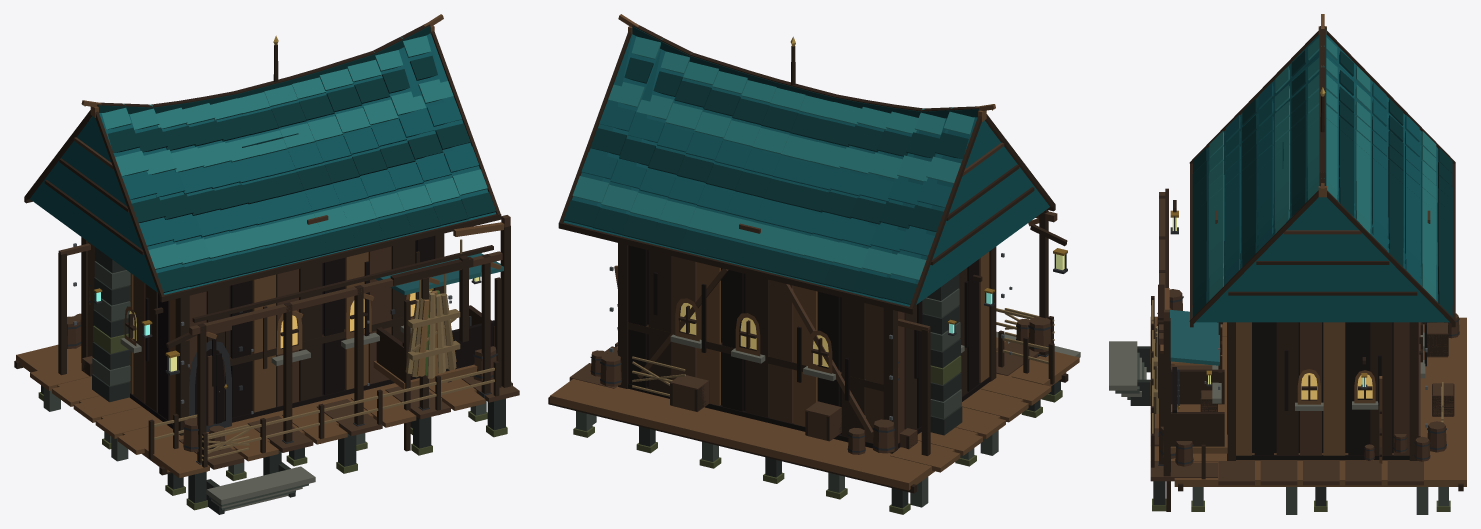
The model's file is fenbridge_crooked_reed_inn.glb.
The picture shows the model from 3 angles, left to right: view 1: azimuth 30°, elevation 25°; view 2: azimuth 150°, elevation 25°; view 3: azimuth 270°, elevation 25°; orthographic projection. The views are drawn at different scales.
Visible parts, largest first — view 1: FenbridgeCrookedReedInn_FenbridgeOpaque, FenbridgeCrookedReedInn_FenbridgeEmissive; view 2: FenbridgeCrookedReedInn_FenbridgeOpaque, FenbridgeCrookedReedInn_FenbridgeEmissive; view 3: FenbridgeCrookedReedInn_FenbridgeOpaque, FenbridgeCrookedReedInn_FenbridgeEmissive.
Boxes of the visible parts, x1,y1,x2,y2 form: FenbridgeCrookedReedInn_FenbridgeOpaque: (14,14,519,514); FenbridgeCrookedReedInn_FenbridgeEmissive: (96,277,479,371); FenbridgeCrookedReedInn_FenbridgeOpaque: (548,14,1080,514); FenbridgeCrookedReedInn_FenbridgeEmissive: (680,254,1064,367); FenbridgeCrookedReedInn_FenbridgeOpaque: (1109,14,1466,514); FenbridgeCrookedReedInn_FenbridgeEmissive: (1172,217,1372,399).
Bounding box in the file's own units: 9 × 8.8 × 8.
